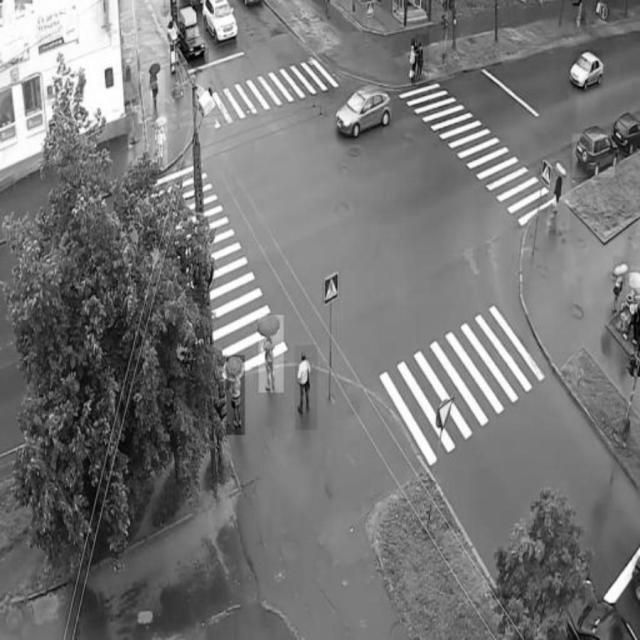person: (259, 316, 284, 393), (296, 345, 318, 429), (548, 159, 570, 230), (226, 355, 244, 435), (153, 115, 168, 170), (415, 34, 429, 88), (150, 70, 165, 115), (613, 256, 625, 311), (411, 39, 421, 86), (634, 288, 640, 352)
vehicle: (336, 84, 391, 136), (195, 0, 239, 47), (177, 7, 209, 67), (573, 134, 615, 178), (609, 109, 639, 154), (572, 50, 602, 88)
